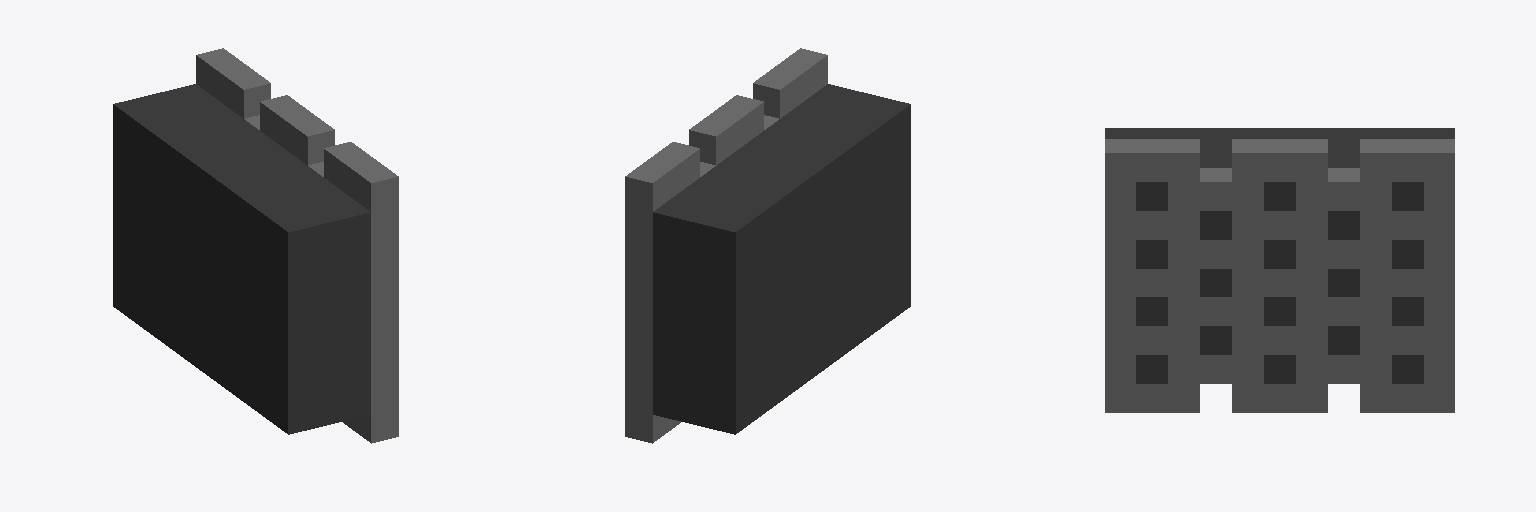
3 renders of one model, left to right at view 1: azimuth 30°, elevation 25°; view 2: azimuth 150°, elevation 25°; view 3: azimuth 270°, elevation 25°, orthographic.
Bounding box in the file's own units: 4 × 9 × 11.
Materials: 1 (1 with a texture image).